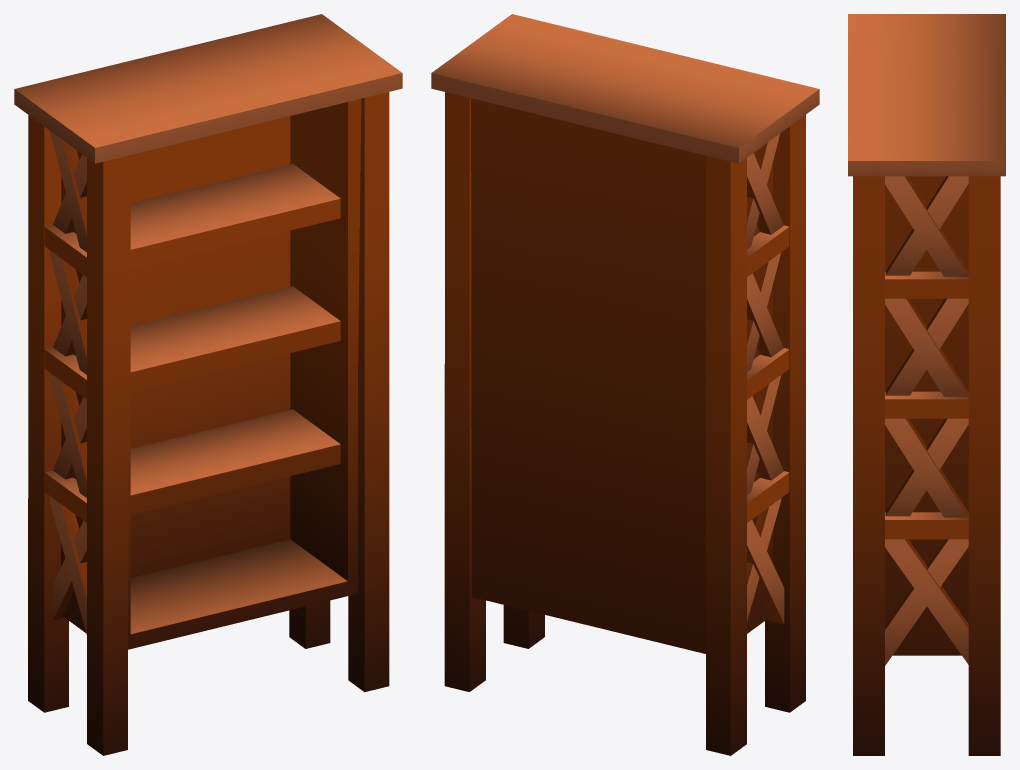
File: EstanteEntalhada.fbx
3 renders of one model, left to right at view 1: azimuth 30°, elevation 25°; view 2: azimuth 150°, elevation 25°; view 3: azimuth 270°, elevation 25°, orthographic. The views are drawn at different scales.
Parts seen in each view (by area): view 1: EstanteEntalhada; view 2: EstanteEntalhada; view 3: EstanteEntalhada.
Boxes of the visible parts, x1,y1,x2,y2 form: EstanteEntalhada: [14, 14, 402, 755]; EstanteEntalhada: [431, 14, 819, 755]; EstanteEntalhada: [848, 14, 1005, 755].
Size of the model in its own units: 76.25 by 145 by 34.63.
